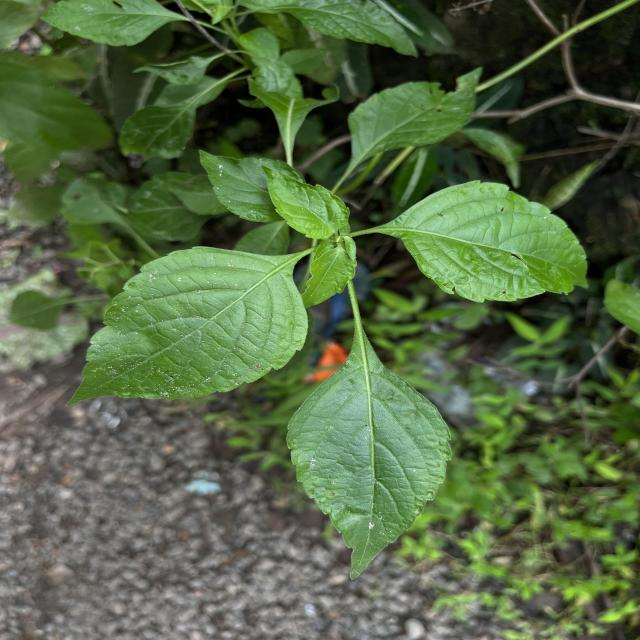Ocimum gratissimum: (282, 310, 456, 582), (62, 243, 310, 410), (370, 177, 592, 306), (256, 160, 354, 243)
